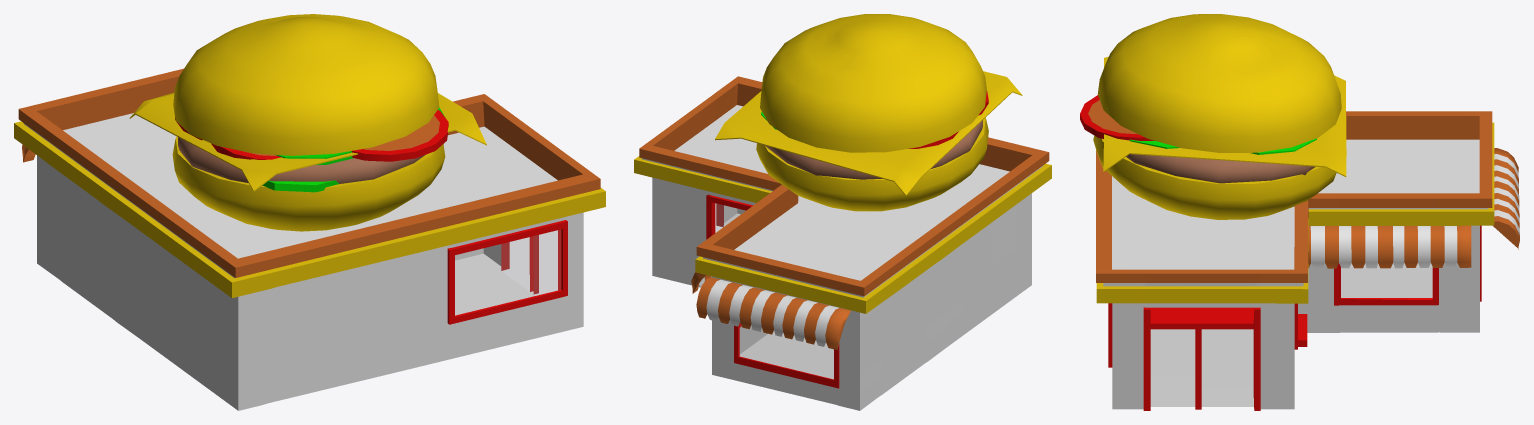
The model's file is Building_BurgerStore_Mod.fbx.
3 renders of one model, left to right at view 1: azimuth 30°, elevation 25°; view 2: azimuth 150°, elevation 25°; view 3: azimuth 270°, elevation 25°, orthographic. The views are drawn at different scales.
Parts seen in each view (by area): view 1: BurgerDiner, Burger_1; view 2: BurgerDiner, Burger_1; view 3: BurgerDiner, Burger_1.
Boxes of the visible parts, box(x1,y1,x2,y2) form: BurgerDiner: box(14, 68, 605, 410); Burger_1: box(129, 14, 486, 231); BurgerDiner: box(634, 76, 1051, 410); Burger_1: box(715, 14, 1022, 211); BurgerDiner: box(1096, 111, 1519, 410); Burger_1: box(1080, 14, 1346, 219).
Size of the model in its own units: 6.83 by 5.13 by 7.2.
